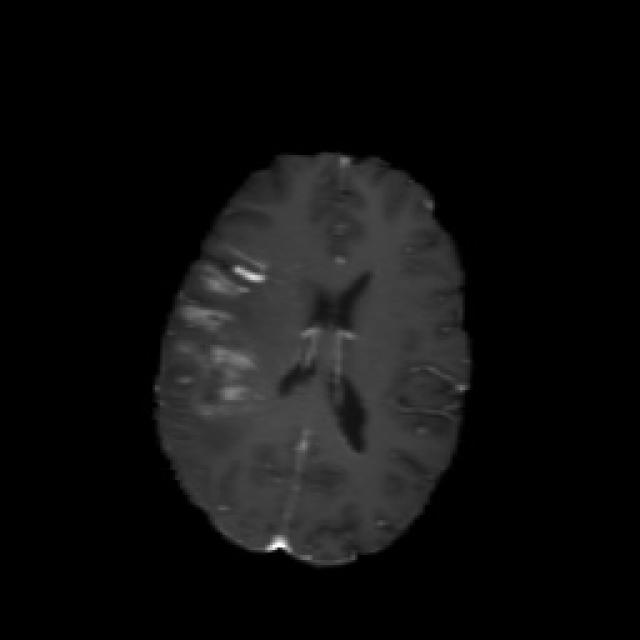negative: (211, 246, 271, 299)
